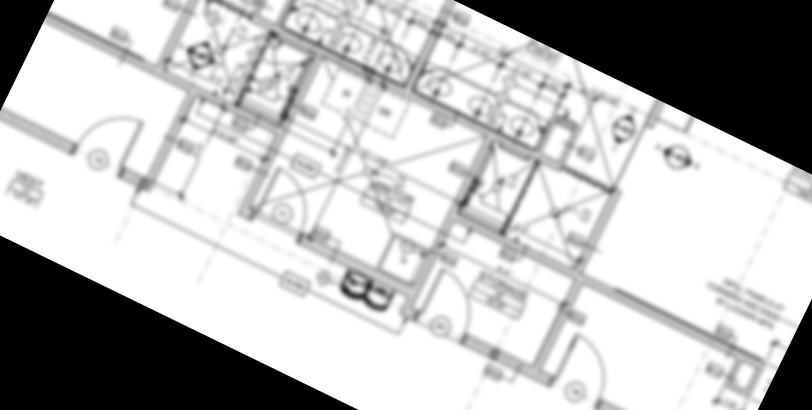door: (251, 163, 327, 239), (72, 97, 148, 171), (416, 266, 490, 340), (550, 329, 623, 403)
wall: (453, 209, 772, 375), (247, 10, 567, 174), (44, 10, 283, 137), (400, 134, 497, 310), (233, 50, 325, 223), (291, 229, 415, 302), (456, 330, 559, 394), (529, 276, 589, 375), (570, 181, 629, 278), (402, 0, 459, 95), (143, 89, 197, 183), (0, 105, 79, 158), (154, 0, 206, 72), (588, 393, 733, 410), (112, 162, 158, 196), (533, 117, 561, 156), (557, 128, 583, 166), (721, 377, 757, 402), (548, 111, 584, 135), (722, 354, 747, 386), (642, 99, 667, 131), (233, 200, 262, 225), (743, 365, 767, 395), (396, 302, 424, 326)
